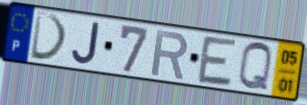7: (118, 23, 150, 75)
D: (28, 10, 70, 63)
E: (195, 34, 239, 89)
J: (70, 21, 102, 67)
Q: (237, 40, 275, 94)
R: (149, 28, 190, 81)
